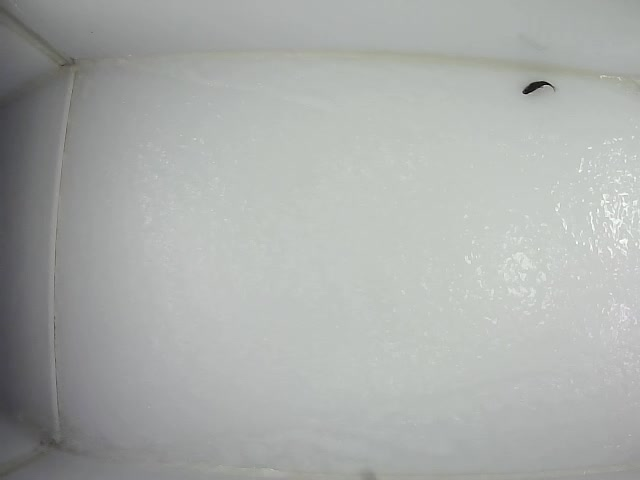fish: (521, 80, 557, 101)
